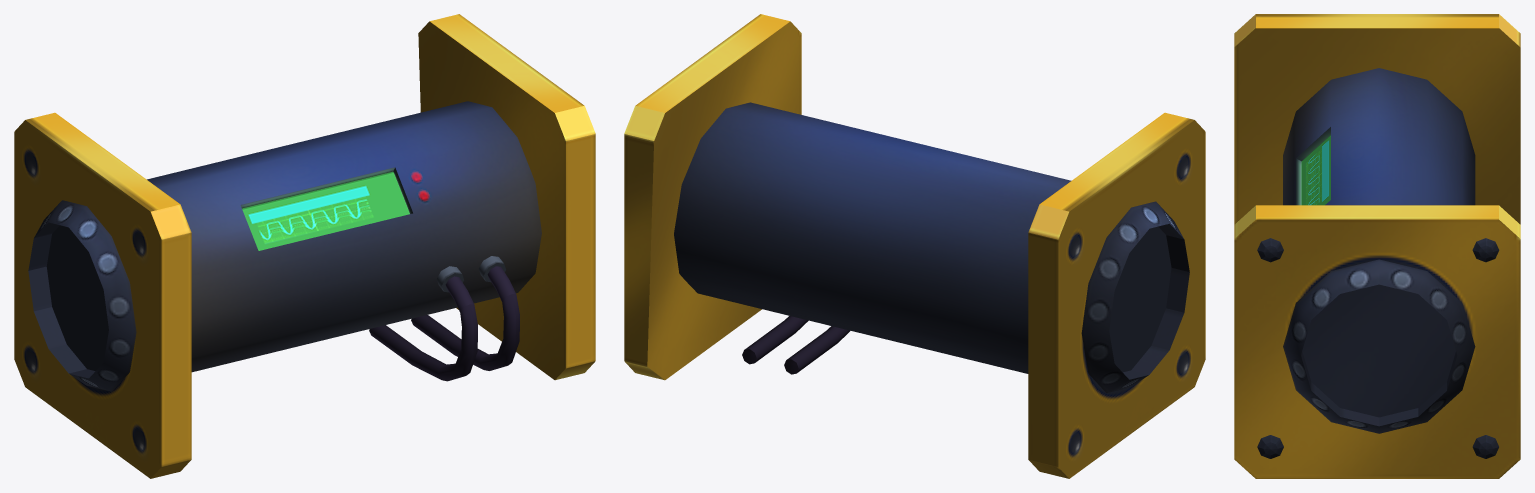
The model's file is Tx_prop_ generator_1.fbx.
3 views of the same model, side by side, from view 1: azimuth 30°, elevation 25°; view 2: azimuth 150°, elevation 25°; view 3: azimuth 270°, elevation 25° (orthographic). The views are drawn at different scales.
Visible parts, largest first — view 1: Tx_prop__generator_9; view 2: Tx_prop__generator_9; view 3: Tx_prop__generator_9.
Part boxes in pixels (bbox=[...]): Tx_prop__generator_9: bbox=[14, 14, 595, 478]; Tx_prop__generator_9: bbox=[624, 14, 1205, 478]; Tx_prop__generator_9: bbox=[1234, 14, 1520, 478].
Size of the model in its own units: 6.92 by 3.75 by 3.75.
1 material, 1 textured.
